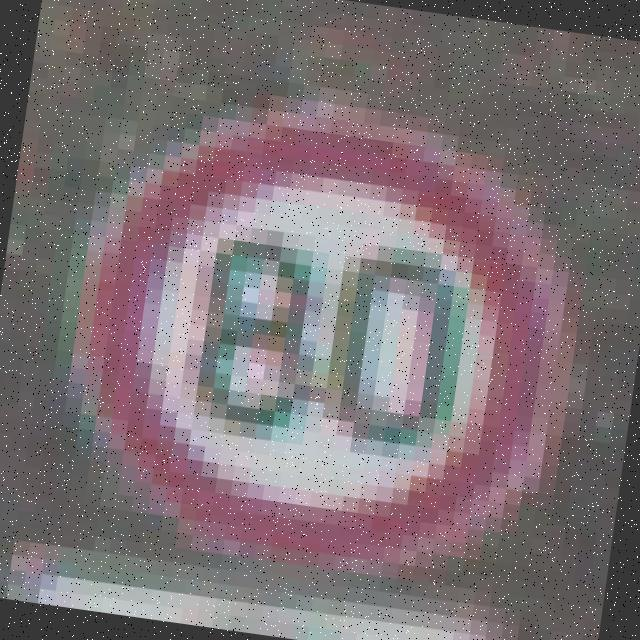Ograniczenie predkosci do 80: (61, 85, 586, 598)
